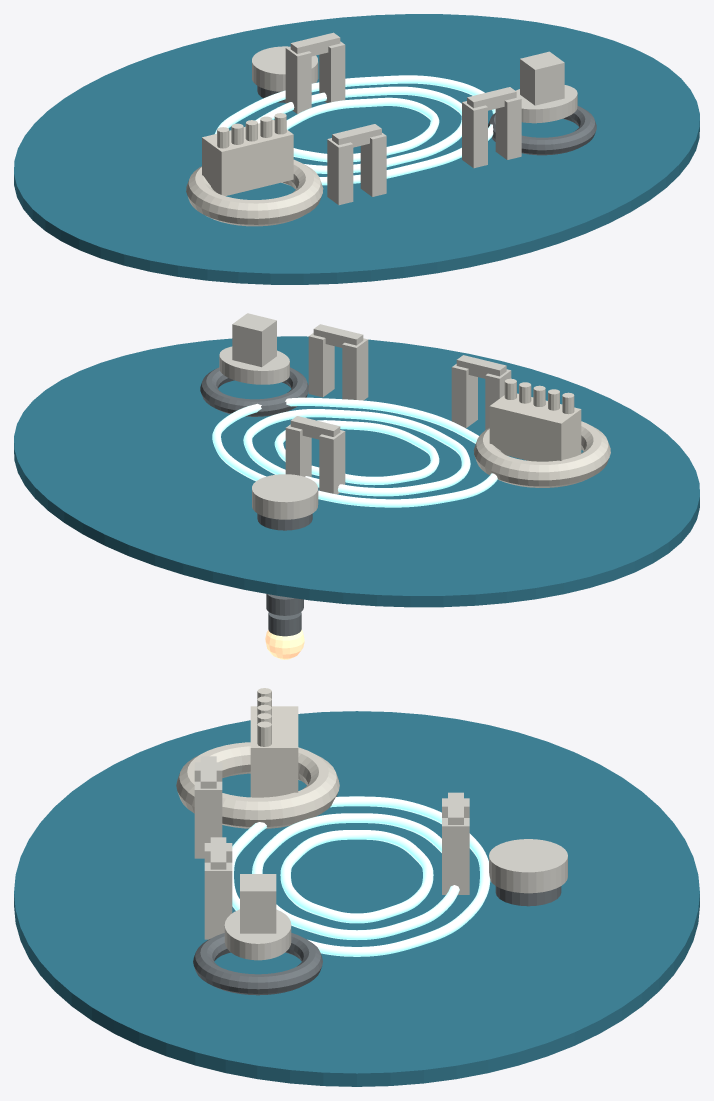
File: world-government-tarai-system.glb
3 views of the same model, one above another, from view 1: azimuth 30°, elevation 25°; view 2: azimuth 150°, elevation 25°; view 3: azimuth 270°, elevation 25° (orthographic). The views are drawn at different scales.
Visible parts, largest first — view 1: Tarai Current stage, Marineford fortress, Marineford crescent bay, Tarai current ring 5.4, Tarai current ring 4.2, Tarai current ring 3.0, Tower of Justice, Enies Lobby abyss, Gate of Justice 1 pier -0.7, Impel Down surface cap, Gate of Justice 2 pier -0.7, Gate of Justice 3 pier -0.7 (+7 smaller); view 2: Tarai Current stage, Marineford fortress, Tarai current ring 5.4, Marineford crescent bay, Tarai current ring 4.2, Impel Down surface cap, Enies Lobby abyss, Tarai current ring 3.0, Tower of Justice, Enies Lobby court, Gate of Justice 2 pier -0.7, Gate of Justice 3 pier -0.7 (+11 smaller); view 3: Tarai Current stage, Marineford crescent bay, Tarai current ring 5.4, Tarai current ring 4.2, Enies Lobby abyss, Tarai current ring 3.0, Marineford fortress, Impel Down surface cap, Tower of Justice, Enies Lobby court, Gate of Justice 3 pier +0.7, Gate of Justice 2 pier +0.7 (+2 smaller).
Part boxes in pixels (left/top/right/bottom): Tarai Current stage: left=14, top=14, right=699, bottom=284; Marineford fortress: left=202, top=120, right=293, bottom=195; Marineford crescent bay: left=186, top=159, right=323, bottom=226; Tarai current ring 5.4: left=215, top=75, right=495, bottom=185; Tarai current ring 4.2: left=255, top=86, right=461, bottom=173; Tarai current ring 3.0: left=286, top=97, right=439, bottom=162; Tower of Justice: left=520, top=51, right=564, bottom=105; Enies Lobby abyss: left=488, top=106, right=596, bottom=155; Gate of Justice 1 pier -0.7: left=327, top=138, right=353, bottom=205; Impel Down surface cap: left=252, top=46, right=318, bottom=91; Gate of Justice 2 pier -0.7: left=462, top=101, right=487, bottom=168; Gate of Justice 3 pier -0.7: left=285, top=47, right=311, bottom=113; Tarai Current stage: left=14, top=336, right=699, bottom=607; Marineford fortress: left=489, top=393, right=581, bottom=461; Tarai current ring 5.4: left=212, top=397, right=497, bottom=507; Marineford crescent bay: left=473, top=421, right=610, bottom=487; Tarai current ring 4.2: left=243, top=409, right=470, bottom=496; Impel Down surface cap: left=252, top=474, right=318, bottom=519; Enies Lobby abyss: left=200, top=367, right=308, bottom=416; Tarai current ring 3.0: left=274, top=420, right=439, bottom=485; Tower of Justice: left=232, top=313, right=276, bottom=367; Enies Lobby court: left=219, top=346, right=289, bottom=384; Gate of Justice 2 pier -0.7: left=342, top=338, right=368, bottom=400; Gate of Justice 3 pier -0.7: left=319, top=430, right=345, bottom=494; Tarai Current stage: left=14, top=711, right=699, bottom=1086; Marineford crescent bay: left=176, top=742, right=339, bottom=828; Tarai current ring 5.4: left=232, top=796, right=490, bottom=956; Tarai current ring 4.2: left=252, top=813, right=459, bottom=939; Enies Lobby abyss: left=193, top=933, right=322, bottom=995; Tarai current ring 3.0: left=280, top=830, right=433, bottom=923; Marineford fortress: left=250, top=706, right=298, bottom=797; Impel Down surface cap: left=489, top=839, right=567, bottom=893; Tower of Justice: left=240, top=874, right=276, bottom=933; Enies Lobby court: left=224, top=909, right=291, bottom=960; Gate of Justice 3 pier +0.7: left=442, top=818, right=469, bottom=894; Gate of Justice 2 pier +0.7: left=204, top=862, right=232, bottom=939.
Bounding box in the file's own units: 26 × 8.92 × 20.8.
